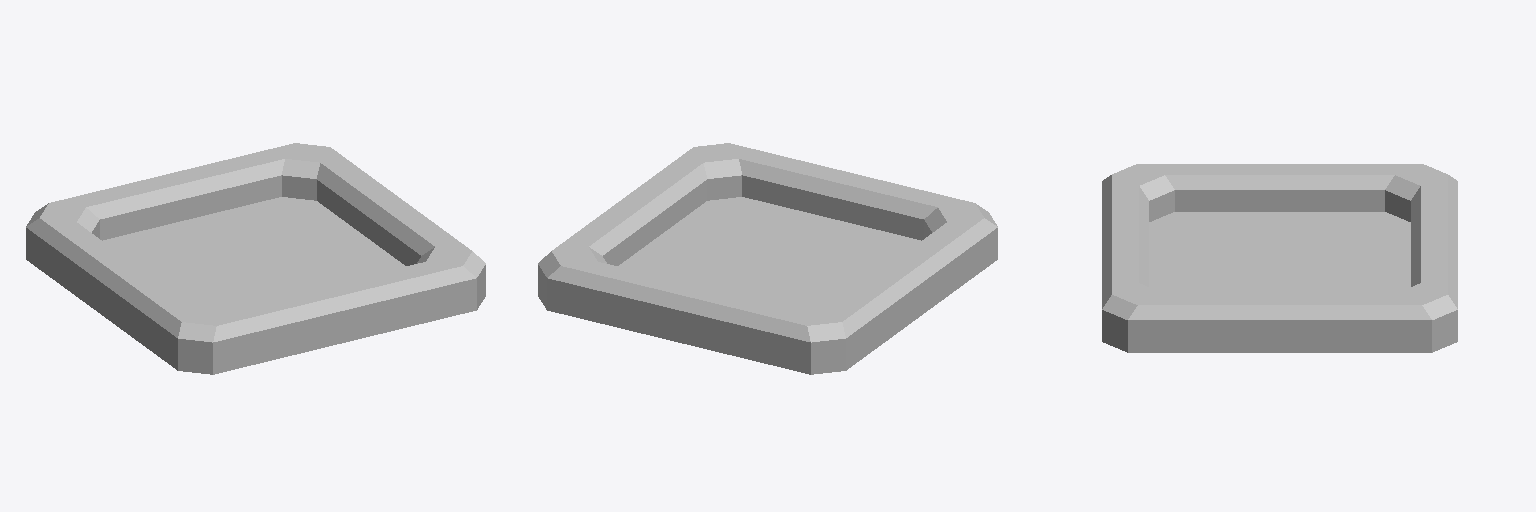
Rendered from floor_tile_tree.obj.
The picture shows the model from 3 angles: view 1: azimuth 30°, elevation 25°; view 2: azimuth 150°, elevation 25°; view 3: azimuth 270°, elevation 25°; orthographic projection.
Visible parts, largest first — view 1: floor_tile_tree; view 2: floor_tile_tree; view 3: floor_tile_tree.
Boxes of the visible parts, x1=… form: floor_tile_tree: x1=26, y1=143, x2=485, y2=374; floor_tile_tree: x1=538, y1=143, x2=997, y2=374; floor_tile_tree: x1=1102, y1=164, x2=1457, y2=352.
Bounding box in the file's own units: 1.5 × 0.2 × 1.5.